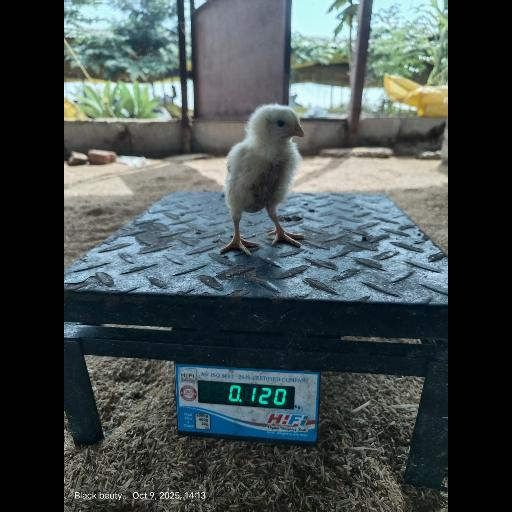chick: (219, 104, 306, 255)
